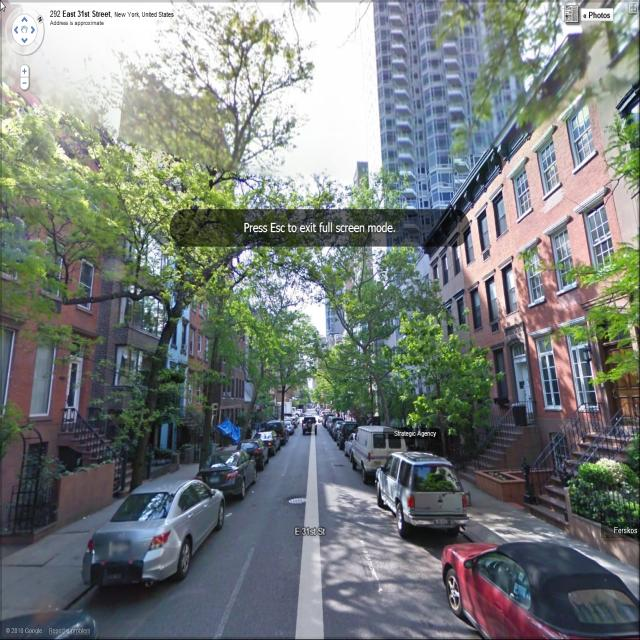b_1: (513, 59, 611, 435), (376, 3, 502, 200), (466, 138, 537, 435)
b_2: (6, 48, 104, 494), (91, 173, 194, 438), (112, 79, 243, 239), (454, 182, 524, 446), (315, 155, 376, 361), (350, 286, 429, 435), (423, 229, 479, 430), (381, 253, 432, 438), (182, 255, 220, 446), (245, 296, 272, 428), (223, 316, 248, 450)
